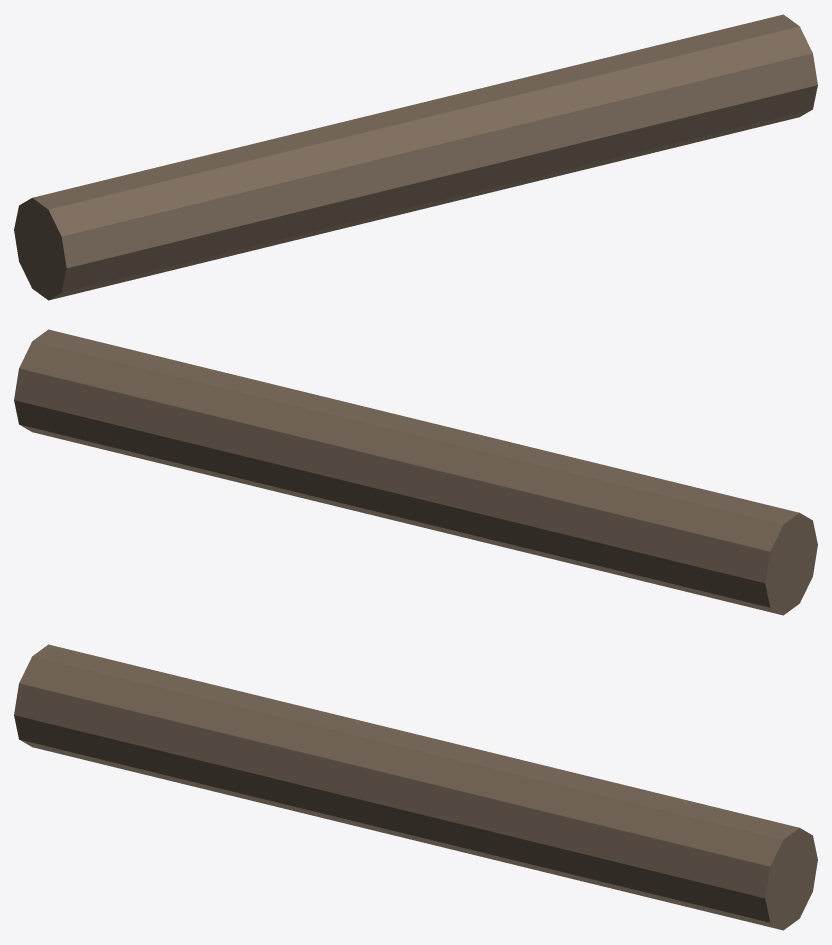
The model's file is eaves_broken.glb.
3 renders of one model, top to bottom at view 1: azimuth 30°, elevation 25°; view 2: azimuth 150°, elevation 25°; view 3: azimuth 330°, elevation 25°, orthographic.
Parts seen in each view (by area): view 1: Body.044; view 2: Body.044; view 3: Body.044.
Part boxes in pixels (<box>): Body.044: <box>14,14,817,300</box>; Body.044: <box>14,329,817,615</box>; Body.044: <box>14,644,817,930</box>.
Size of the model in its own units: 1.4 by 0.1617 by 0.17.
